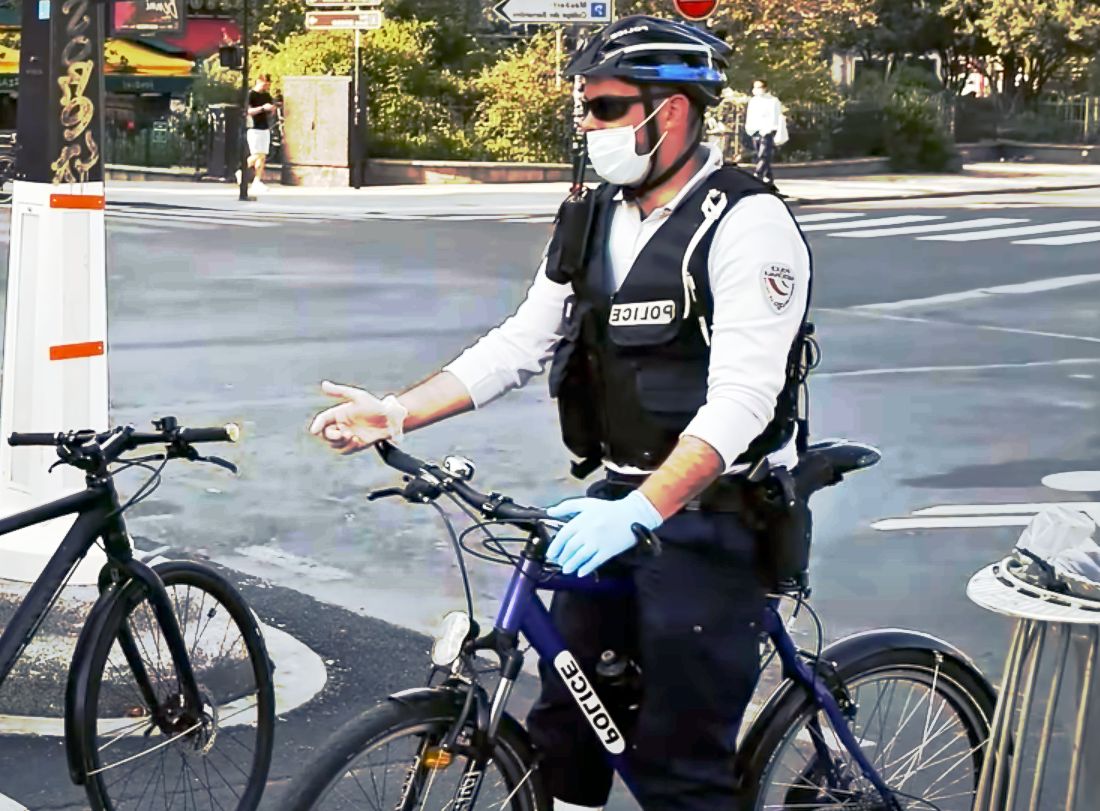mask_weared_incorrect: (574, 22, 718, 196)
